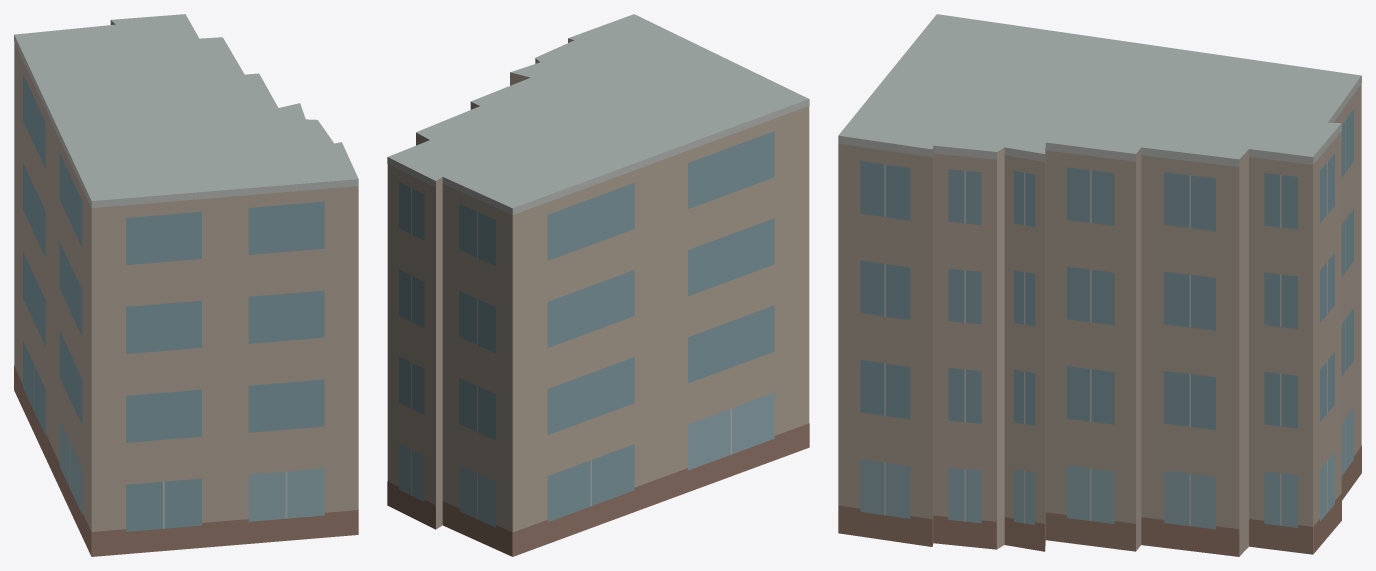
File: survey-upis-32729568.glb
The picture shows the model from 3 angles, left to right: view 1: azimuth 30°, elevation 25°; view 2: azimuth 150°, elevation 25°; view 3: azimuth 270°, elevation 25°; orthographic projection. The views are drawn at different scales.
Visible parts, largest first — view 1: survey-upis-32729568.tmp; view 2: survey-upis-32729568.tmp; view 3: survey-upis-32729568.tmp.
Part boxes in pixels (box(x1,y1,x2,y2)): survey-upis-32729568.tmp: box(14, 14, 358, 556); survey-upis-32729568.tmp: box(387, 14, 809, 556); survey-upis-32729568.tmp: box(838, 14, 1361, 556).
Bounding box in the file's own units: 9.73 × 12.4 × 14.81.
